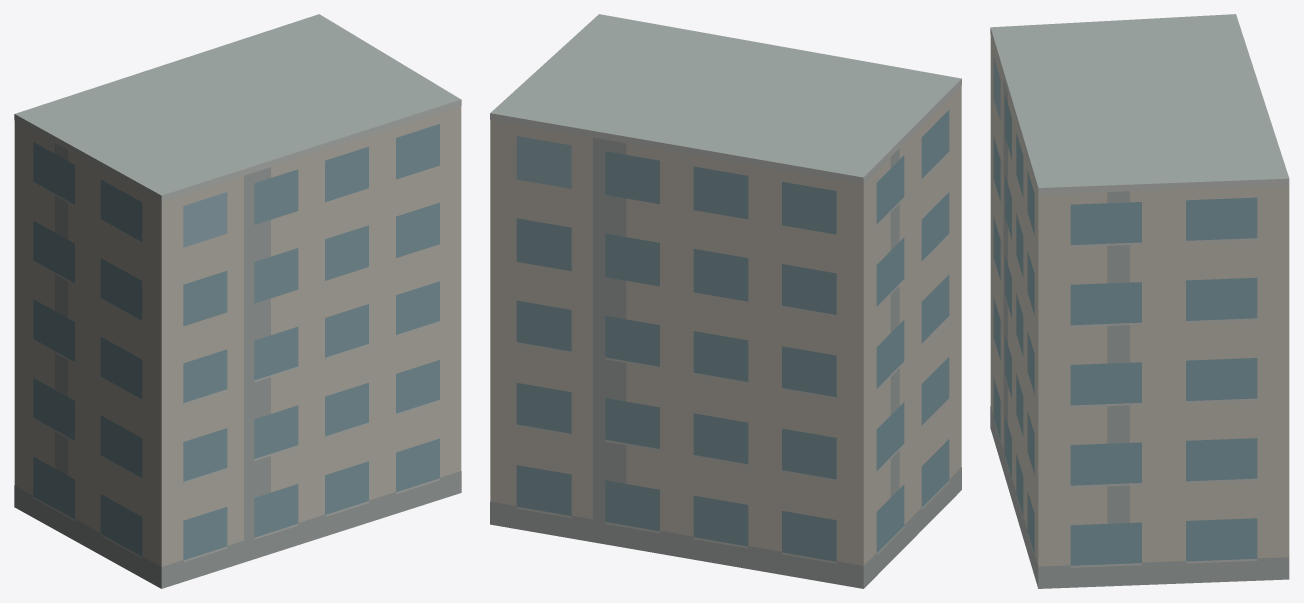
File: survey-upis-32883238.glb
3 views of the same model, side by side, from view 1: azimuth 30°, elevation 25°; view 2: azimuth 150°, elevation 25°; view 3: azimuth 270°, elevation 25° (orthographic). The views are drawn at different scales.
Visible parts, largest first — view 1: survey-upis-32883238.tmp; view 2: survey-upis-32883238.tmp; view 3: survey-upis-32883238.tmp.
Part boxes in pixels (box(x1,y1,x2,y2)): survey-upis-32883238.tmp: box(14, 14, 461, 588); survey-upis-32883238.tmp: box(490, 14, 961, 588); survey-upis-32883238.tmp: box(990, 14, 1289, 588).
Bounding box in the file's own units: 13.79 × 14.8 × 10.01.
